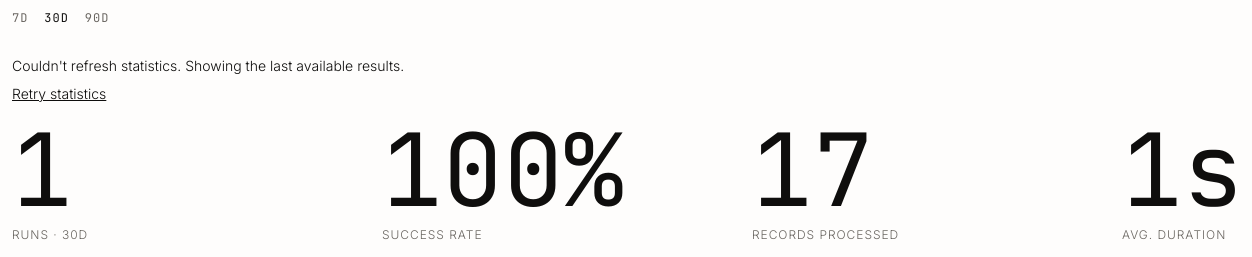
Test: statistics with real query hooks › retains cached results on failed refresh and removes the notice on recovery
Expected: the text "17" is shown, [752,103,873,236]
Click the button "Retry statistics".
click(59, 94)  # box [12,84,106,104]
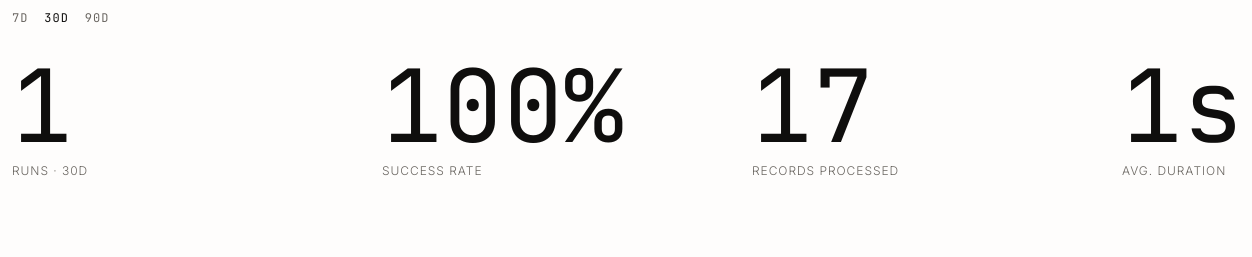
Expected: the text "17" is shown, [752,39,873,172]
Expected: the message is gone
